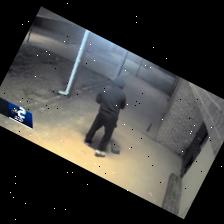person: (83, 76, 125, 157)
